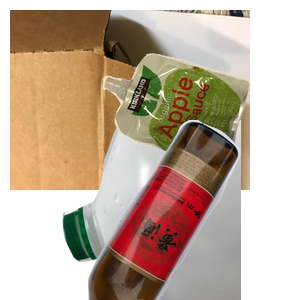cardboard: (10, 10, 250, 190)
glass: (85, 120, 300, 300)
plastic: (60, 120, 300, 300)
trash: (100, 51, 300, 214)
